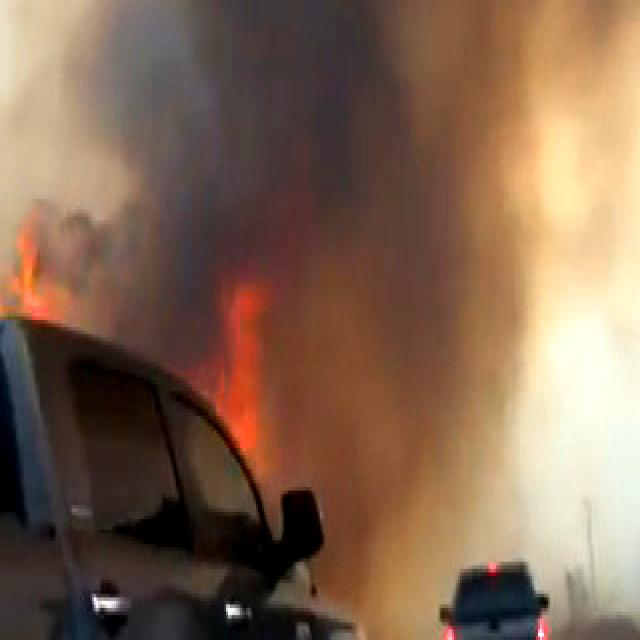smoke: (80, 0, 594, 164)
